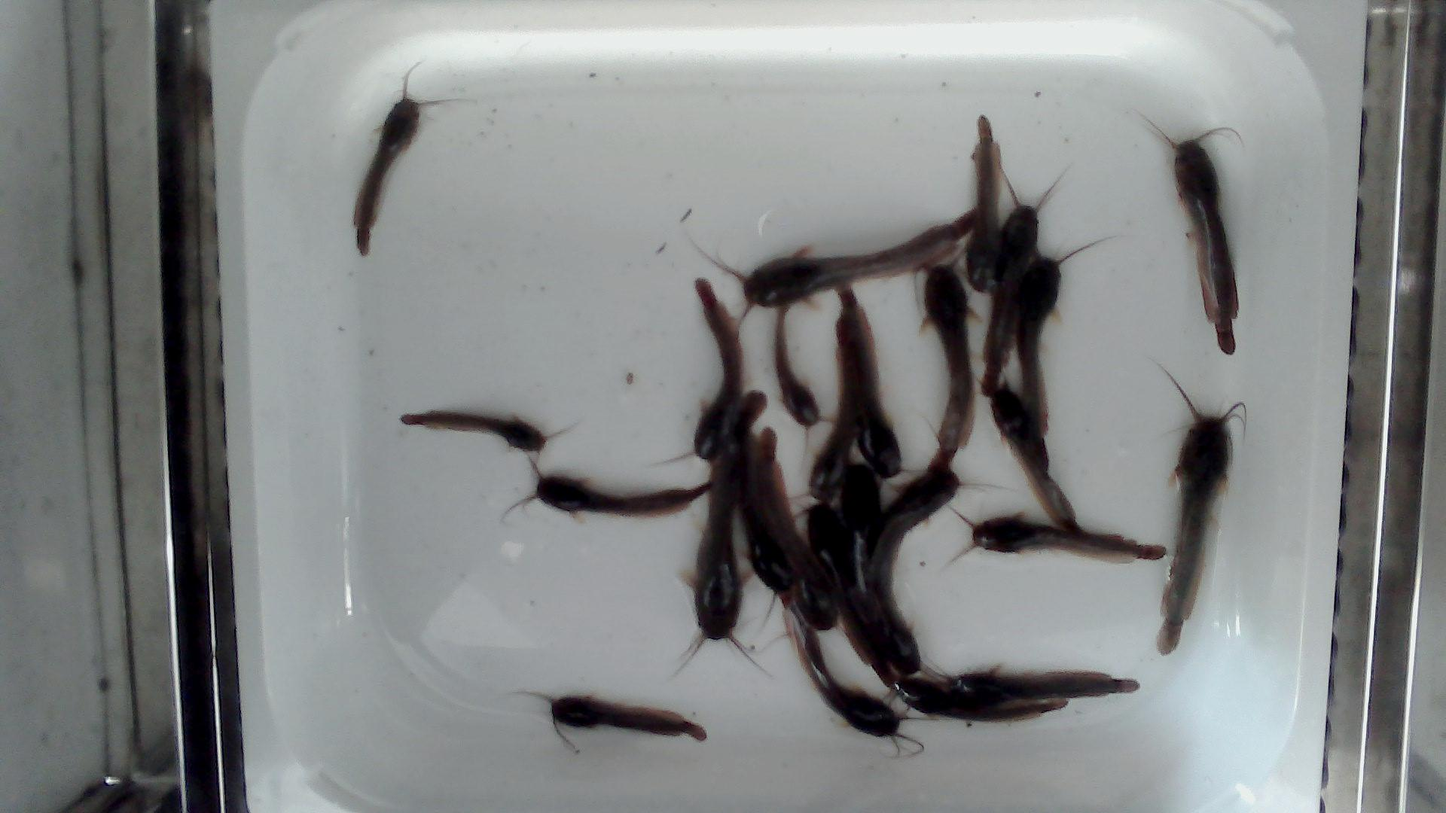lele: (669, 389, 772, 685), (700, 209, 977, 307), (1157, 371, 1245, 654), (979, 167, 1070, 398), (1152, 124, 1238, 355), (1016, 236, 1113, 438), (649, 279, 747, 463), (799, 501, 894, 689), (756, 426, 840, 634), (787, 611, 911, 741), (867, 462, 987, 591), (986, 376, 1077, 527), (837, 287, 902, 480), (796, 318, 855, 505), (950, 513, 1166, 564), (738, 433, 791, 638), (354, 89, 419, 255), (923, 264, 974, 470), (949, 664, 1141, 712), (886, 675, 1073, 723), (840, 461, 885, 655), (773, 306, 822, 469), (535, 474, 712, 516), (875, 528, 923, 676), (962, 113, 1001, 294), (551, 696, 706, 740), (401, 410, 547, 451)
